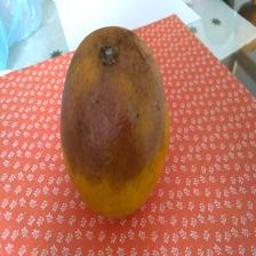Orange Rotten: (35, 14, 184, 256)
